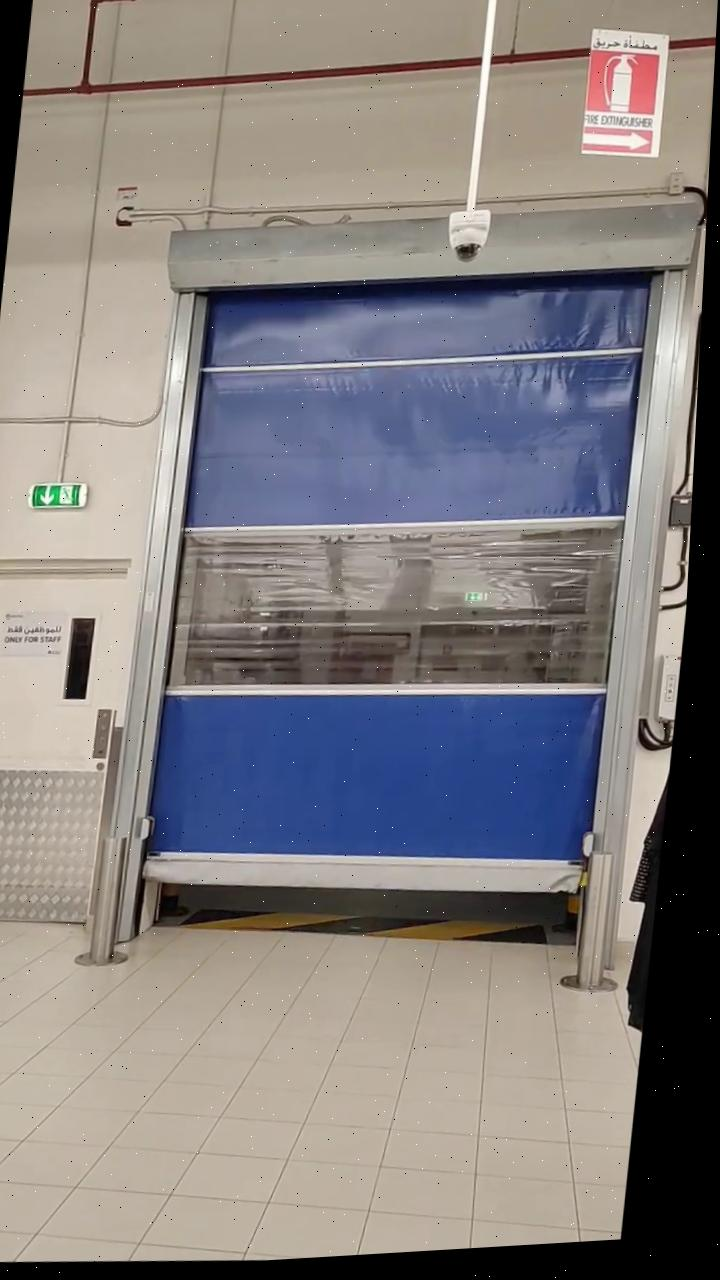Strip: (198, 884, 567, 973)
